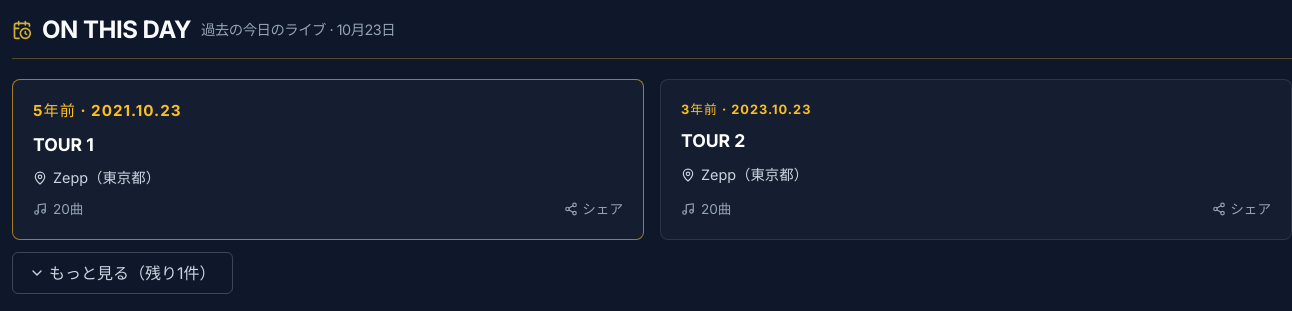
Test case: 過去の今日のライブ › 最初は2件だけ表示し、もっと見るで残りを開く
Check: the number of links "TOUR 1" is 2, box [33,134,94,155]; [681,130,745,151]
Click the button "もっと見る（残り1件）": (122, 273) [12,252,232,294]
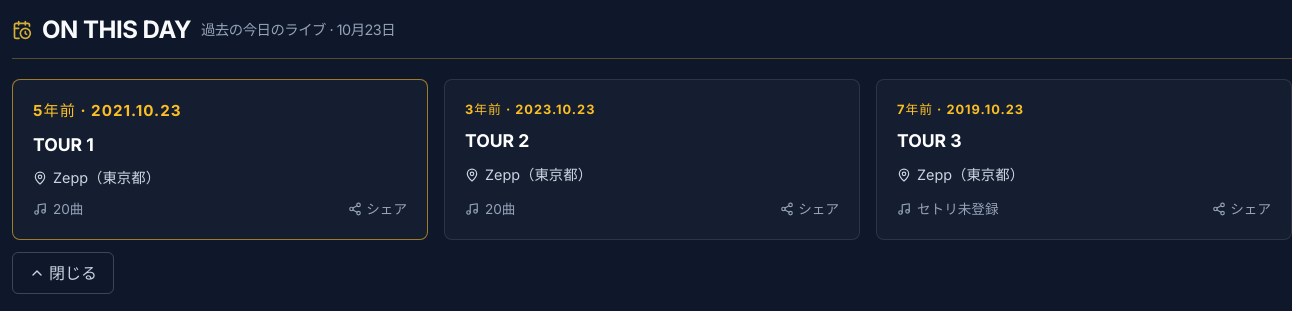
Check: the number of links "TOUR 1" is 3, box [33,134,94,155]; [465,130,529,151]; [897,130,962,151]
Check: the text "セトリ未登録" is shown, box [897,199,999,219]
Check: the button "閉じる" is expanded, box [12,252,114,294]
